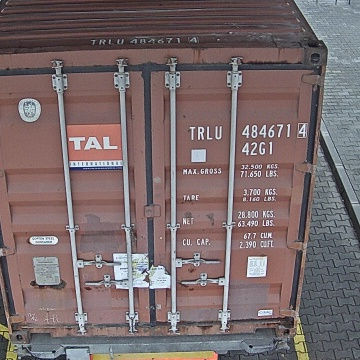serial_id: (188, 124, 306, 140)
